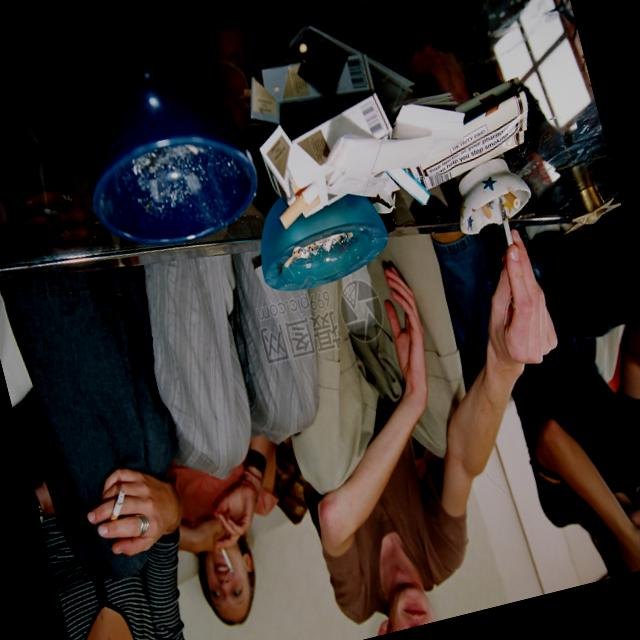smoke: (104, 486, 130, 516), (496, 213, 516, 251), (217, 544, 236, 576)
